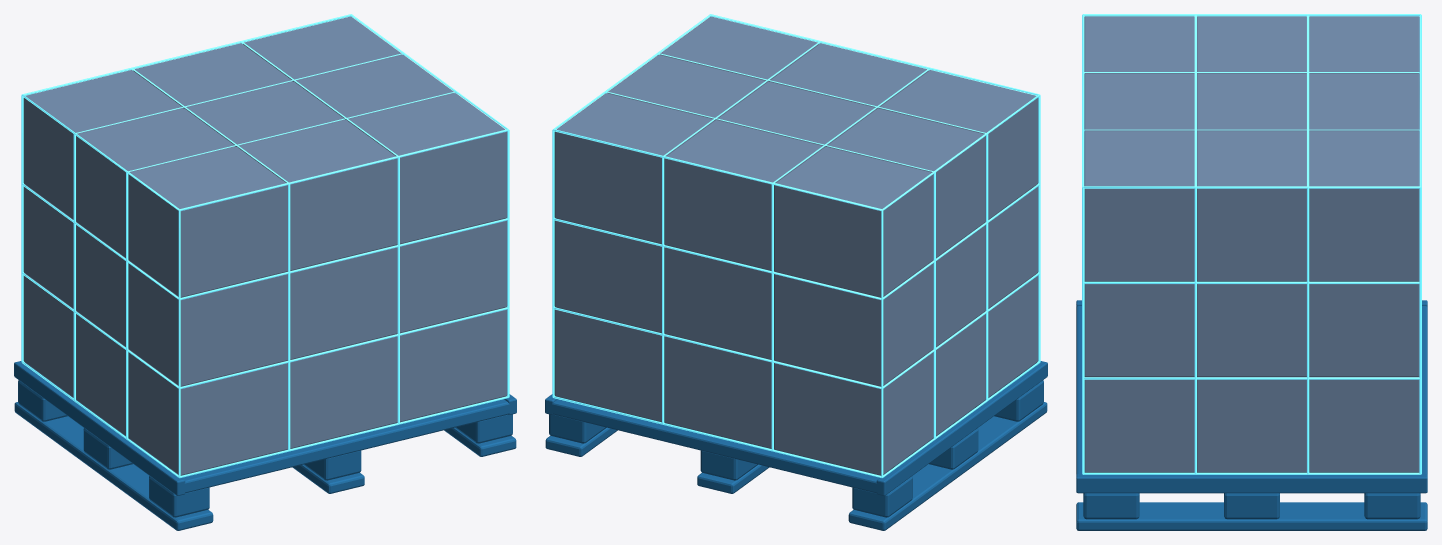
The model's file is SM_VR_PalletCargo.fbx.
The picture shows the model from 3 angles, left to right: view 1: azimuth 30°, elevation 25°; view 2: azimuth 150°, elevation 25°; view 3: azimuth 270°, elevation 25°; orthographic projection. The views are drawn at different scales.
Parts seen in each view (by area): view 1: SM_VR_PalletCargo; view 2: SM_VR_PalletCargo; view 3: SM_VR_PalletCargo.
Boxes of the visible parts, left/top/right/bottom form: SM_VR_PalletCargo: left=14, top=14, right=516, bottom=530; SM_VR_PalletCargo: left=545, top=14, right=1047, bottom=530; SM_VR_PalletCargo: left=1076, top=14, right=1427, bottom=530.
Bounding box in the file's own units: 120 × 100 × 108.
